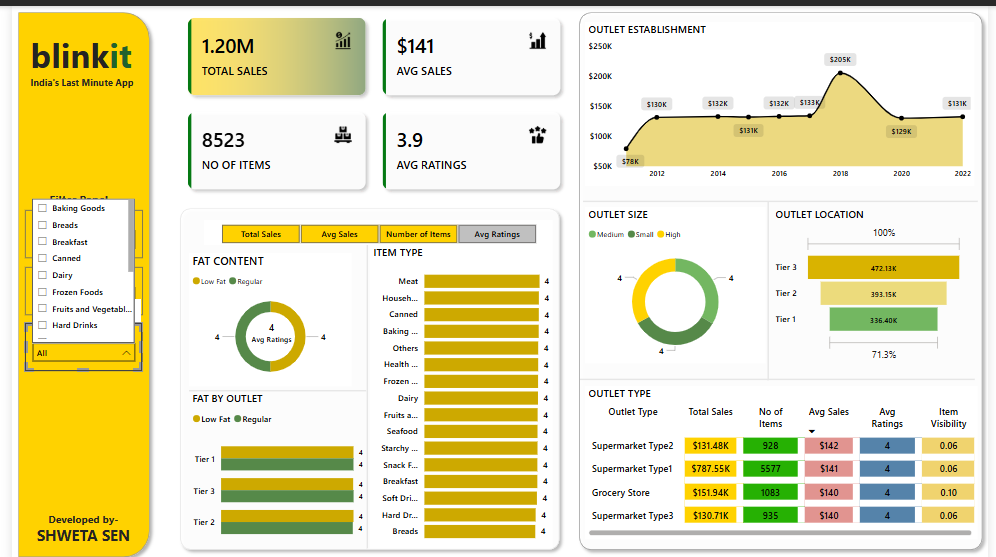

The dashboard page shown, as its layout file describes it:
{"tool":"powerbi","page":{"name":"Page 1","canvas":[1400,800],"ordinal":0},"visuals":[{"type":"shape","box":[0,0,206.2,799.4],"z":0},{"type":"textbox","box":[20.9,32.1,165.5,83.5],"z":1000},{"type":"textbox","box":[356.6,292.4,207.2,28.9],"z":2000},{"type":"textbox","box":[20.9,96.4,213.7,36.9],"z":3000},{"type":"cardVisual","fields":{"Data":["BlinkIT Grocery Data.Total Sales","BlinkIT Grocery Data.Avg Sales","BlinkIT Grocery Data.Number of Items","BlinkIT Grocery Data.Avg Ratings"]},"box":[234.5,0,568.7,281.1],"z":4000},{"type":"shape","box":[231.8,281.5,561.5,507.3],"z":5000},{"type":"donutChart","title":"FAT CONTENT","fields":{"Y":["BlinkIT Grocery Data.Avg Ratings"],"Category":["BlinkIT Grocery Data.Item Fat Content"]},"box":[254.4,353.8,233.3,191.2],"z":6000},{"type":"slicer","fields":{"Values":["Metrics.Metrics"]},"box":[275.5,307.1,499.8,36.1],"z":7000},{"type":"cardVisual","fields":{"Data":["BlinkIT Grocery Data.Avg Ratings"]},"box":[317.6,435.1,108.4,67.7],"z":8000},{"type":"clusteredBarChart","title":"FAT BY OUTLET","fields":{"Y":["BlinkIT Grocery Data.Avg Ratings"],"Category":["BlinkIT Grocery Data.Outlet Location Type"],"Series":["BlinkIT Grocery Data.Item Fat Content"]},"box":[254.4,552.5,254.4,230.3],"z":9000},{"type":"shape","box":[254.4,544.9,254.4,13.5],"z":10000},{"type":"shape","box":[498.3,343.2,21.1,435.1],"z":11000},{"type":"barChart","title":"ITEM TYPE","fields":{"Y":["BlinkIT Grocery Data.Avg Ratings"],"Category":["BlinkIT Grocery Data.Item Type"]},"box":[513.3,343.2,261.9,435.1],"z":12000},{"type":"shape","title":"OUTL","box":[803.9,0,596.1,788.8],"z":13000},{"type":"lineChart","title":"OUTLET ESTABLISHMENT","fields":{"Y":["BlinkIT Grocery Data.Total Sales"],"Category":["BlinkIT Grocery Data.Outlet Establishment Year"]},"box":[821.9,22.6,558.5,234.8],"z":14000},{"type":"shape","box":[818.9,268,566,24.1],"z":15000},{"type":"donutChart","title":"OUTLET SIZE","fields":{"Y":["BlinkIT Grocery Data.Avg Ratings"],"Category":["BlinkIT Grocery Data.Outlet Size"]},"box":[821.9,287.5,258.9,224.3],"z":16000},{"type":"shape","box":[1077.8,280,12,257.4],"z":17000},{"type":"funnel","title":"OUTLET LOCATION","fields":{"Category":["BlinkIT Grocery Data.Outlet Location Type"],"Y":["Sum(BlinkIT Grocery Data.Sales)"]},"box":[1089.9,287.5,278.5,227.3],"z":18000},{"type":"shape","box":[814.4,523.9,566,24.1],"z":19000},{"type":"pivotTable","title":"OUTLET TYPE","fields":{"Rows":["BlinkIT Grocery Data.Outlet Type"],"Values":["BlinkIT Grocery Data.Total Sales","BlinkIT Grocery Data.Number of Items","BlinkIT Grocery Data.Avg Sales","BlinkIT Grocery Data.Avg Ratings","Avg(BlinkIT Grocery Data.Item Visibility)"]},"box":[821.9,544.9,563,219.8],"z":20000},{"type":"slicer","fields":{"Values":["BlinkIT Grocery Data.Outlet Location Type"]},"box":[18.1,292,168.6,69.2],"z":21000},{"type":"slicer","fields":{"Values":["BlinkIT Grocery Data.Outlet Size"]},"box":[18.1,374.8,168.6,69.2],"z":22000},{"type":"slicer","fields":{"Values":["BlinkIT Grocery Data.Item Type"]},"box":[18.1,454.6,168.6,69.2],"z":23000},{"type":"textbox","box":[48.7,262.4,109,35.8],"z":24000},{"type":"textbox","box":[18.1,719.6,165.6,63.2],"z":25000}]}

Visuals, with their boxes in screenshot pixels (x1, y1, x2, y2), scaled from the page's 1400x800 canvas onto the 996x557 screenshot:
shape: {"x1": 0, "y1": 0, "x2": 147, "y2": 556}
textbox: {"x1": 15, "y1": 22, "x2": 133, "y2": 80}
textbox: {"x1": 254, "y1": 204, "x2": 401, "y2": 224}
textbox: {"x1": 15, "y1": 67, "x2": 167, "y2": 93}
cardVisual - BlinkIT Grocery Data.Total Sales x BlinkIT Grocery Data.Avg Sales: {"x1": 167, "y1": 0, "x2": 571, "y2": 196}
shape: {"x1": 165, "y1": 196, "x2": 564, "y2": 549}
"FAT CONTENT" donutChart: {"x1": 181, "y1": 246, "x2": 347, "y2": 379}
slicer - Metrics.Metrics: {"x1": 196, "y1": 214, "x2": 552, "y2": 239}
cardVisual - BlinkIT Grocery Data.Avg Ratings: {"x1": 226, "y1": 303, "x2": 303, "y2": 350}
"FAT BY OUTLET" clusteredBarChart: {"x1": 181, "y1": 385, "x2": 362, "y2": 545}
shape: {"x1": 181, "y1": 379, "x2": 362, "y2": 389}
shape: {"x1": 355, "y1": 239, "x2": 370, "y2": 542}
"ITEM TYPE" barChart: {"x1": 365, "y1": 239, "x2": 551, "y2": 542}
"OUTL" shape: {"x1": 572, "y1": 0, "x2": 995, "y2": 549}
"OUTLET ESTABLISHMENT" lineChart: {"x1": 585, "y1": 16, "x2": 982, "y2": 179}
shape: {"x1": 583, "y1": 187, "x2": 985, "y2": 203}
"OUTLET SIZE" donutChart: {"x1": 585, "y1": 200, "x2": 769, "y2": 356}
shape: {"x1": 767, "y1": 195, "x2": 775, "y2": 374}
"OUTLET LOCATION" funnel: {"x1": 775, "y1": 200, "x2": 974, "y2": 358}
shape: {"x1": 579, "y1": 365, "x2": 982, "y2": 382}
"OUTLET TYPE" pivotTable: {"x1": 585, "y1": 379, "x2": 985, "y2": 532}
slicer - BlinkIT Grocery Data.Outlet Location Type: {"x1": 13, "y1": 203, "x2": 133, "y2": 251}
slicer - BlinkIT Grocery Data.Outlet Size: {"x1": 13, "y1": 261, "x2": 133, "y2": 309}
slicer - BlinkIT Grocery Data.Item Type: {"x1": 13, "y1": 317, "x2": 133, "y2": 365}
textbox: {"x1": 35, "y1": 183, "x2": 112, "y2": 208}
textbox: {"x1": 13, "y1": 501, "x2": 131, "y2": 545}
